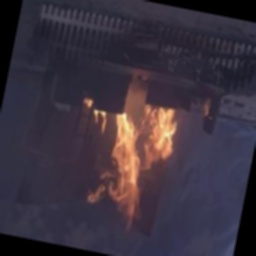fire: (64, 85, 190, 237)
